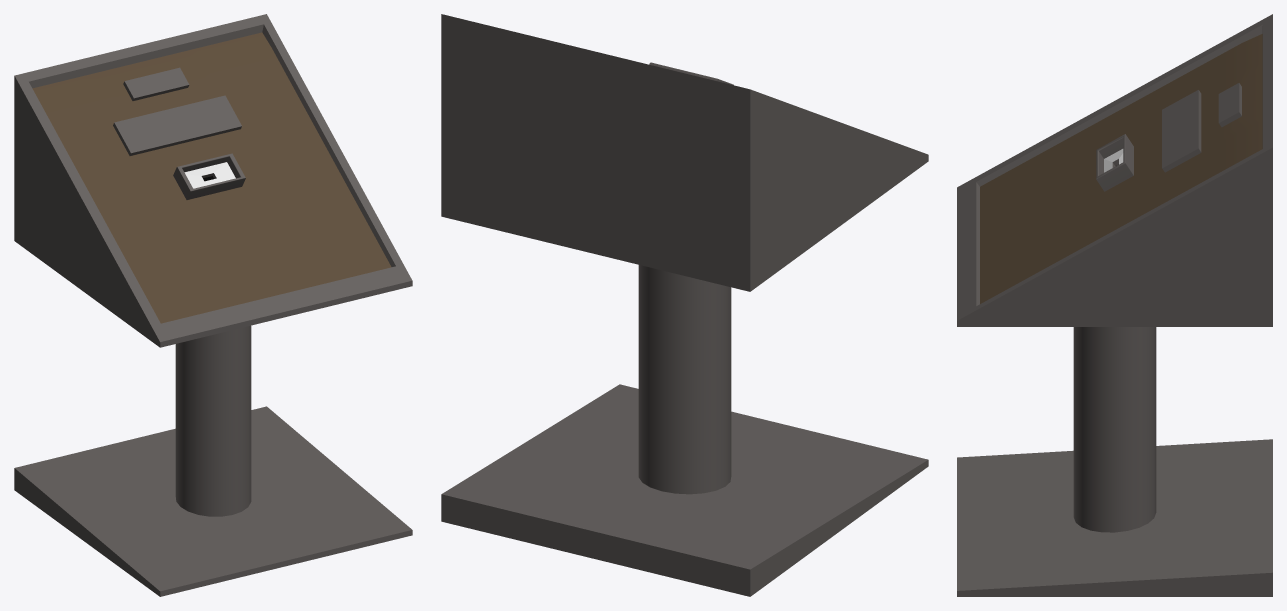
File: panel8.fbx
3 views of the same model, side by side, from view 1: azimuth 30°, elevation 25°; view 2: azimuth 150°, elevation 25°; view 3: azimuth 270°, elevation 25° (orthographic). The views are drawn at different scales.
Parts seen in each view (by area): view 1: polySurface5; view 2: polySurface5; view 3: polySurface5.
Boxes of the visible parts, x1,y1,x2,y2 form: polySurface5: [14, 14, 412, 596]; polySurface5: [441, 14, 928, 596]; polySurface5: [957, 14, 1272, 596].
Bounding box in the file's own units: 57.42 × 90.18 × 57.42.
